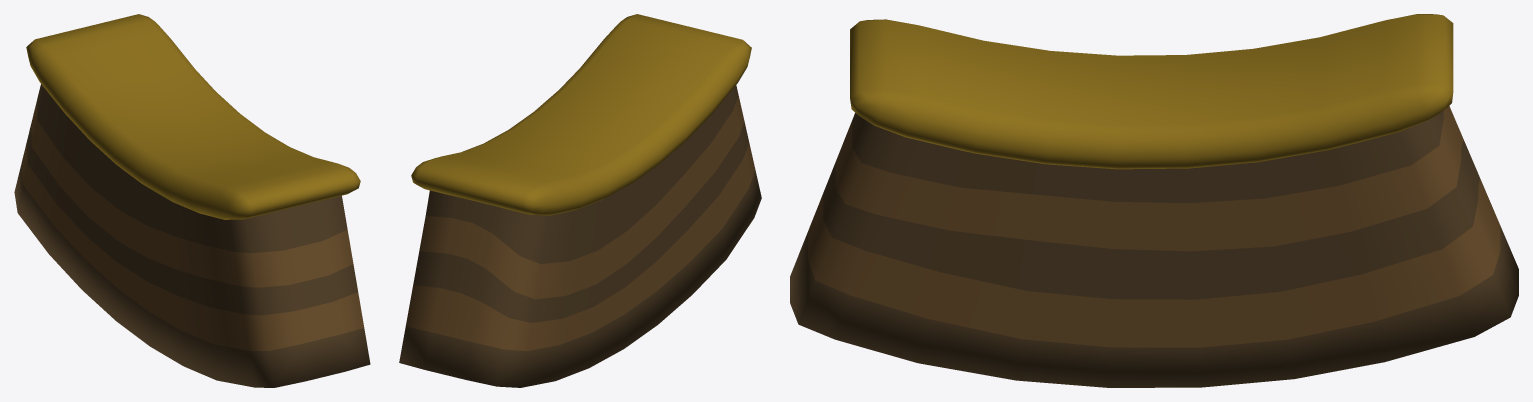
The model's file is Plateforme_rectangle_creuse_m.fbx.
3 renders of one model, left to right at view 1: azimuth 30°, elevation 25°; view 2: azimuth 150°, elevation 25°; view 3: azimuth 270°, elevation 25°, orthographic. The views are drawn at different scales.
Parts seen in each view (by area): view 1: Cube.015; view 2: Cube.015; view 3: Cube.015.
Part boxes in pixels (x1,y1,x2,y2): Cube.015: (14, 14, 370, 387); Cube.015: (399, 14, 761, 387); Cube.015: (790, 14, 1518, 387).
Size of the model in its own units: 499 by 786 by 1740.
